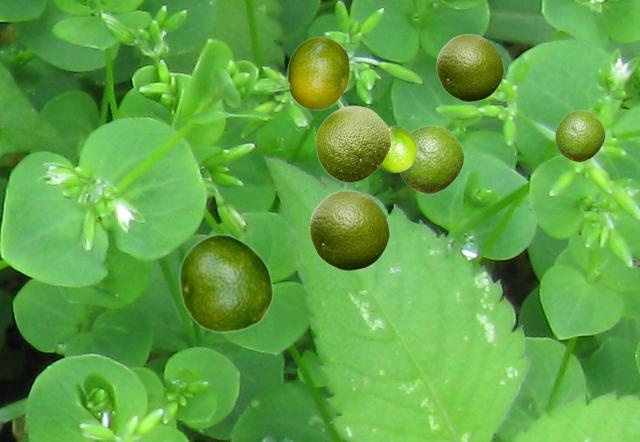calamansi: (178, 233, 273, 332), (309, 189, 389, 270), (266, 36, 349, 109), (315, 105, 390, 182), (436, 33, 503, 101), (399, 125, 463, 193), (555, 110, 604, 161), (380, 125, 416, 171)
